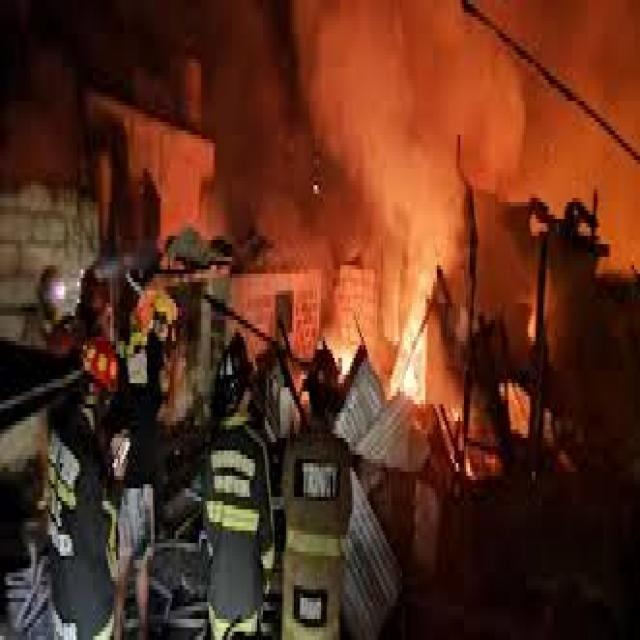Fire: (393, 260, 434, 416), (314, 326, 363, 393)
Smoke: (282, 0, 640, 279)
